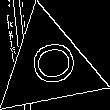O_W: (21, 40, 77, 92)
